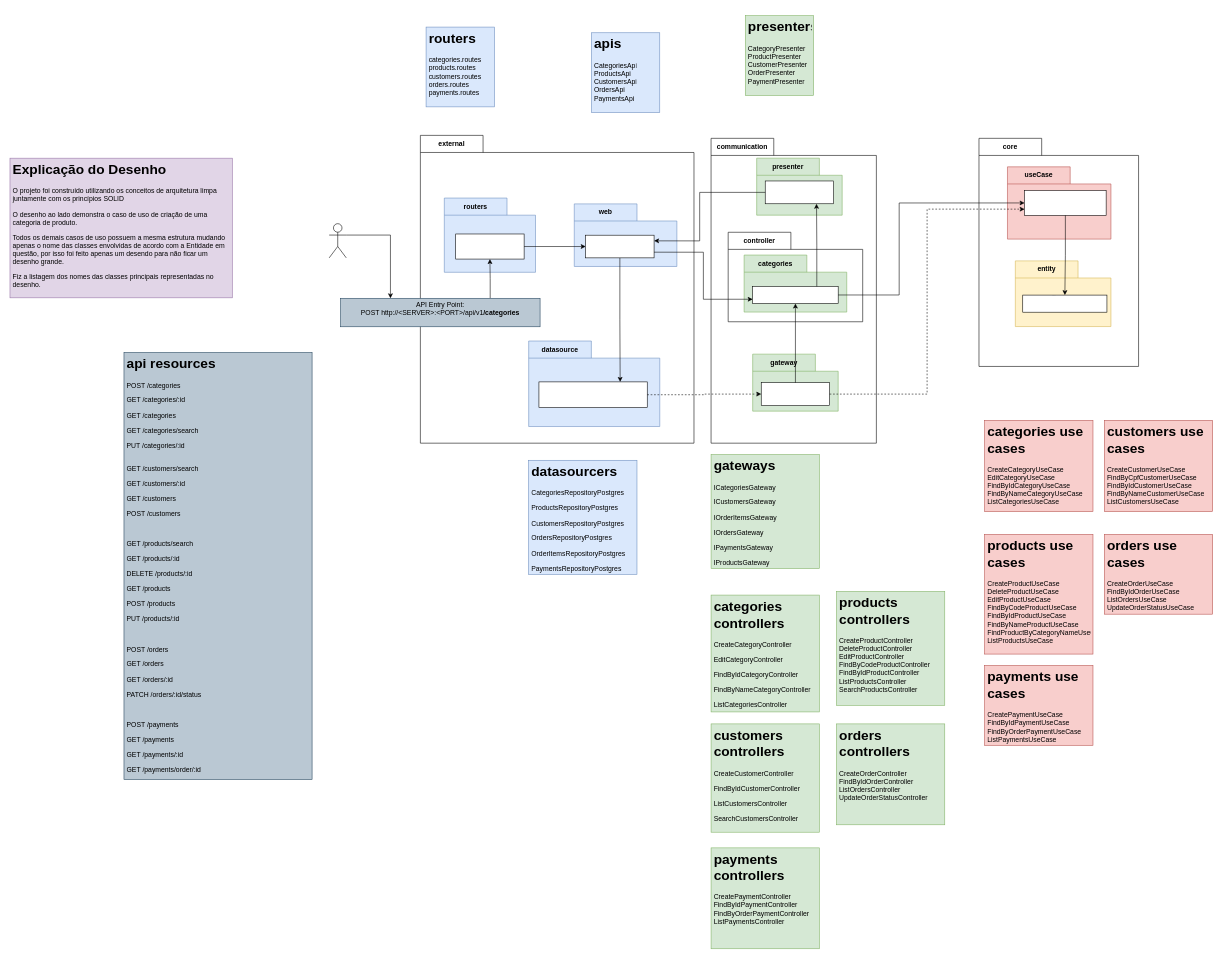
This 1223x959 diagram has some shape labels left out. Each missing label, with the centre of its shape:
<<interface>> ICategoriesGateway: the point at 795,394
Actor: the point at 337,240
categories.router: the point at 489,246
CategoriesApi. create: the point at 619,246
CategoriesRepositoryPostgres: the point at 592,394
Category: the point at 1064,303
CategoryPresenter: the point at 799,192
CreateCategoryController: the point at 795,295
CreateCategoryUseCase: the point at 1065,202
